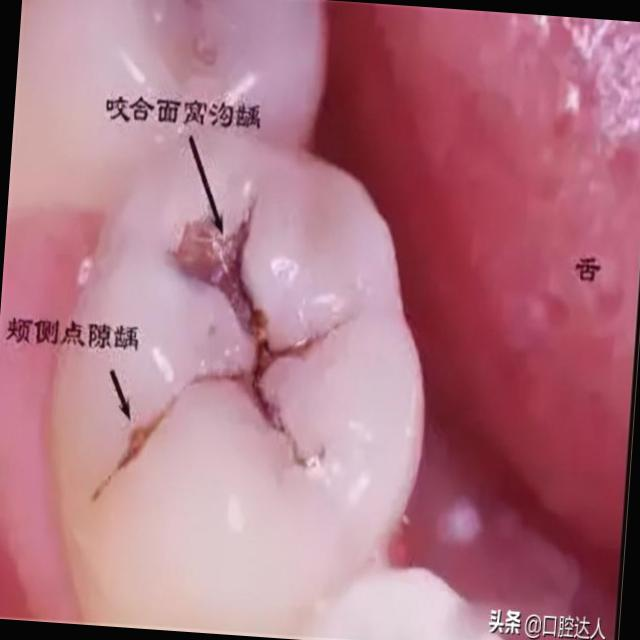caries: (118, 214, 352, 520)
